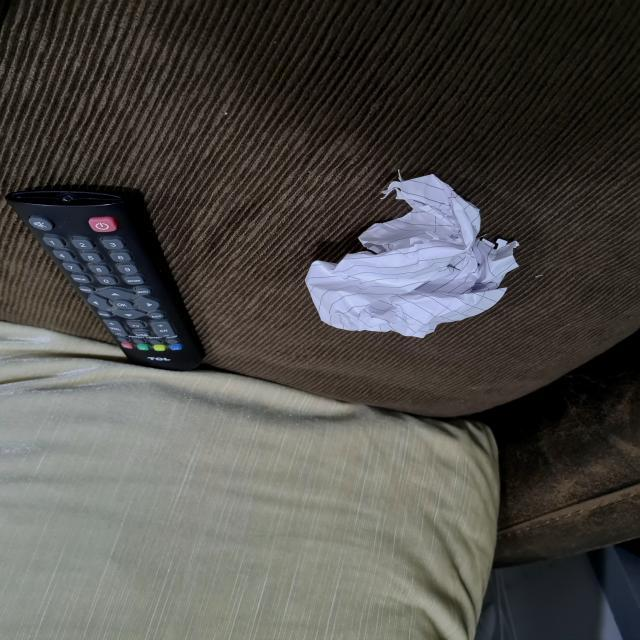Paper: (305, 170, 524, 350)
